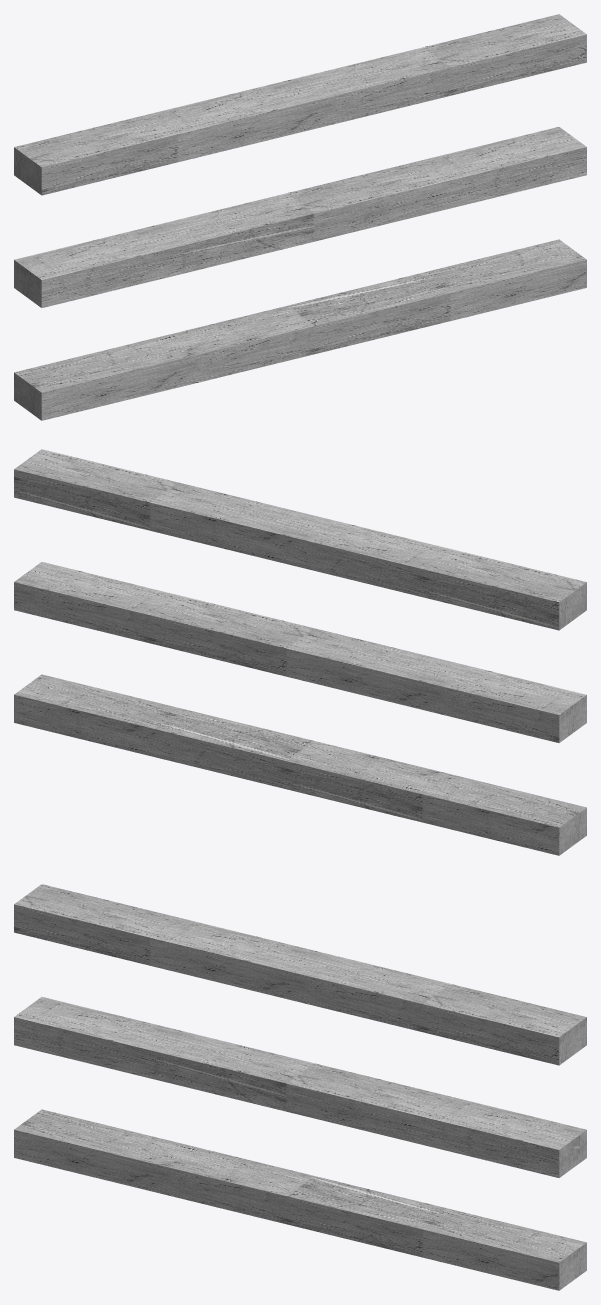
The model's file is preteleira.glb.
3 renders of one model, top to bottom at view 1: azimuth 30°, elevation 25°; view 2: azimuth 150°, elevation 25°; view 3: azimuth 330°, elevation 25°, orthographic.
Visible parts, largest first — view 1: walltables-col; view 2: walltables-col; view 3: walltables-col.
Part boxes in pixels (x1,y1,x2,y2): walltables-col: (14,14,586,420); walltables-col: (14,449,586,855); walltables-col: (14,884,586,1290).
Size of the model in its own units: 2.81 by 1.25 by 0.2476.
Materials: 1 (1 with a texture image).
